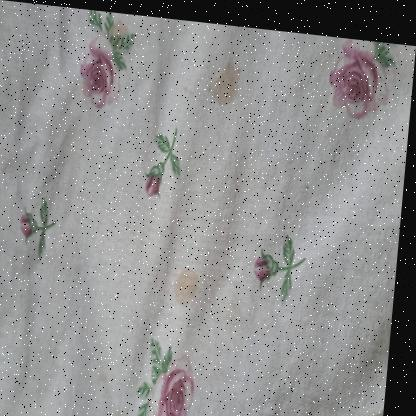spot: (208, 47, 251, 116), (174, 247, 206, 315), (96, 360, 118, 385), (118, 398, 131, 416)
